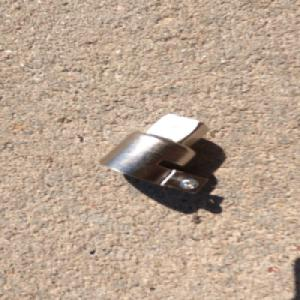MetalPart: (96, 112, 211, 195)
